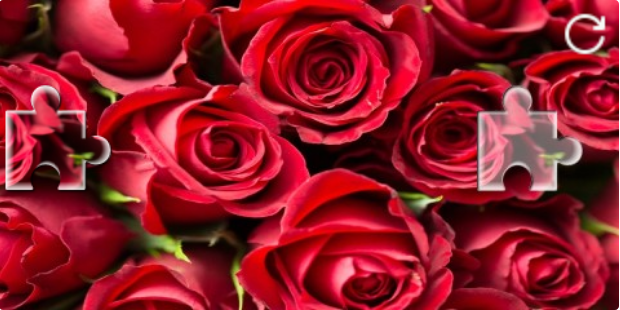target: (478, 87, 583, 192)
